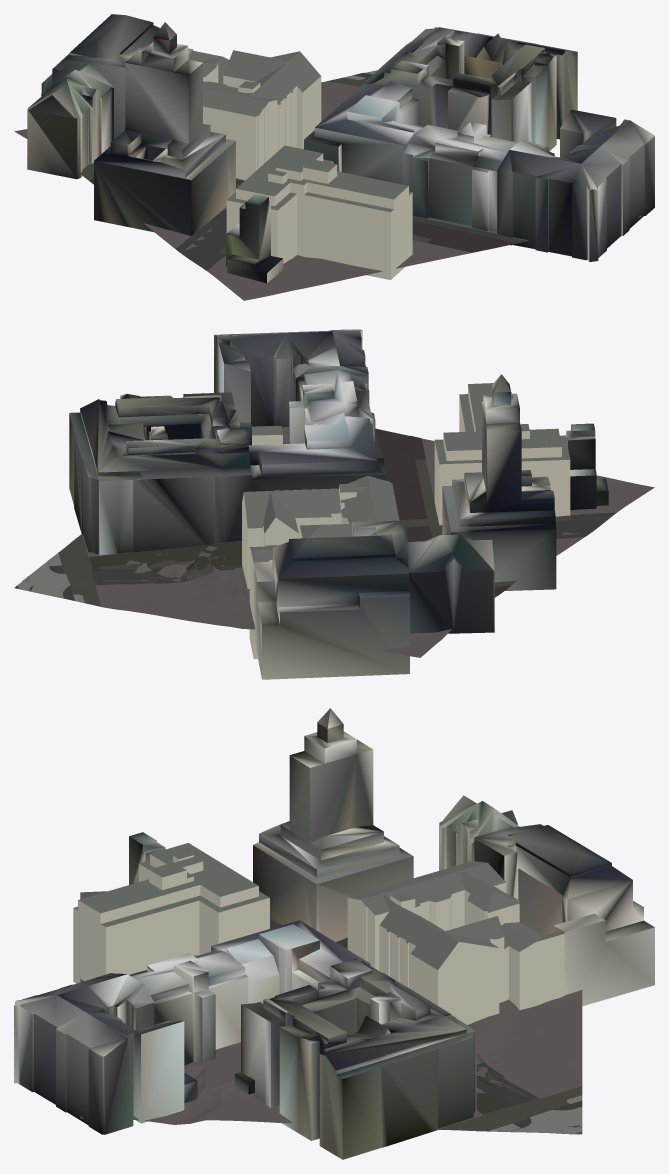
The picture shows the model from 3 angles, top to bottom: view 1: azimuth 30°, elevation 25°; view 2: azimuth 150°, elevation 25°; view 3: azimuth 270°, elevation 25°; orthographic projection. The views are drawn at different scales.
Visible parts, largest first — view 1: c_m06_p01; view 2: c_m06_p01; view 3: c_m06_p01.
Boxes of the visible parts, x1,y1,x2,y2 form: c_m06_p01: [14, 14, 654, 300]; c_m06_p01: [14, 329, 654, 679]; c_m06_p01: [14, 708, 654, 1159].
Size of the model in its own units: 155 by 71.86 by 163.
